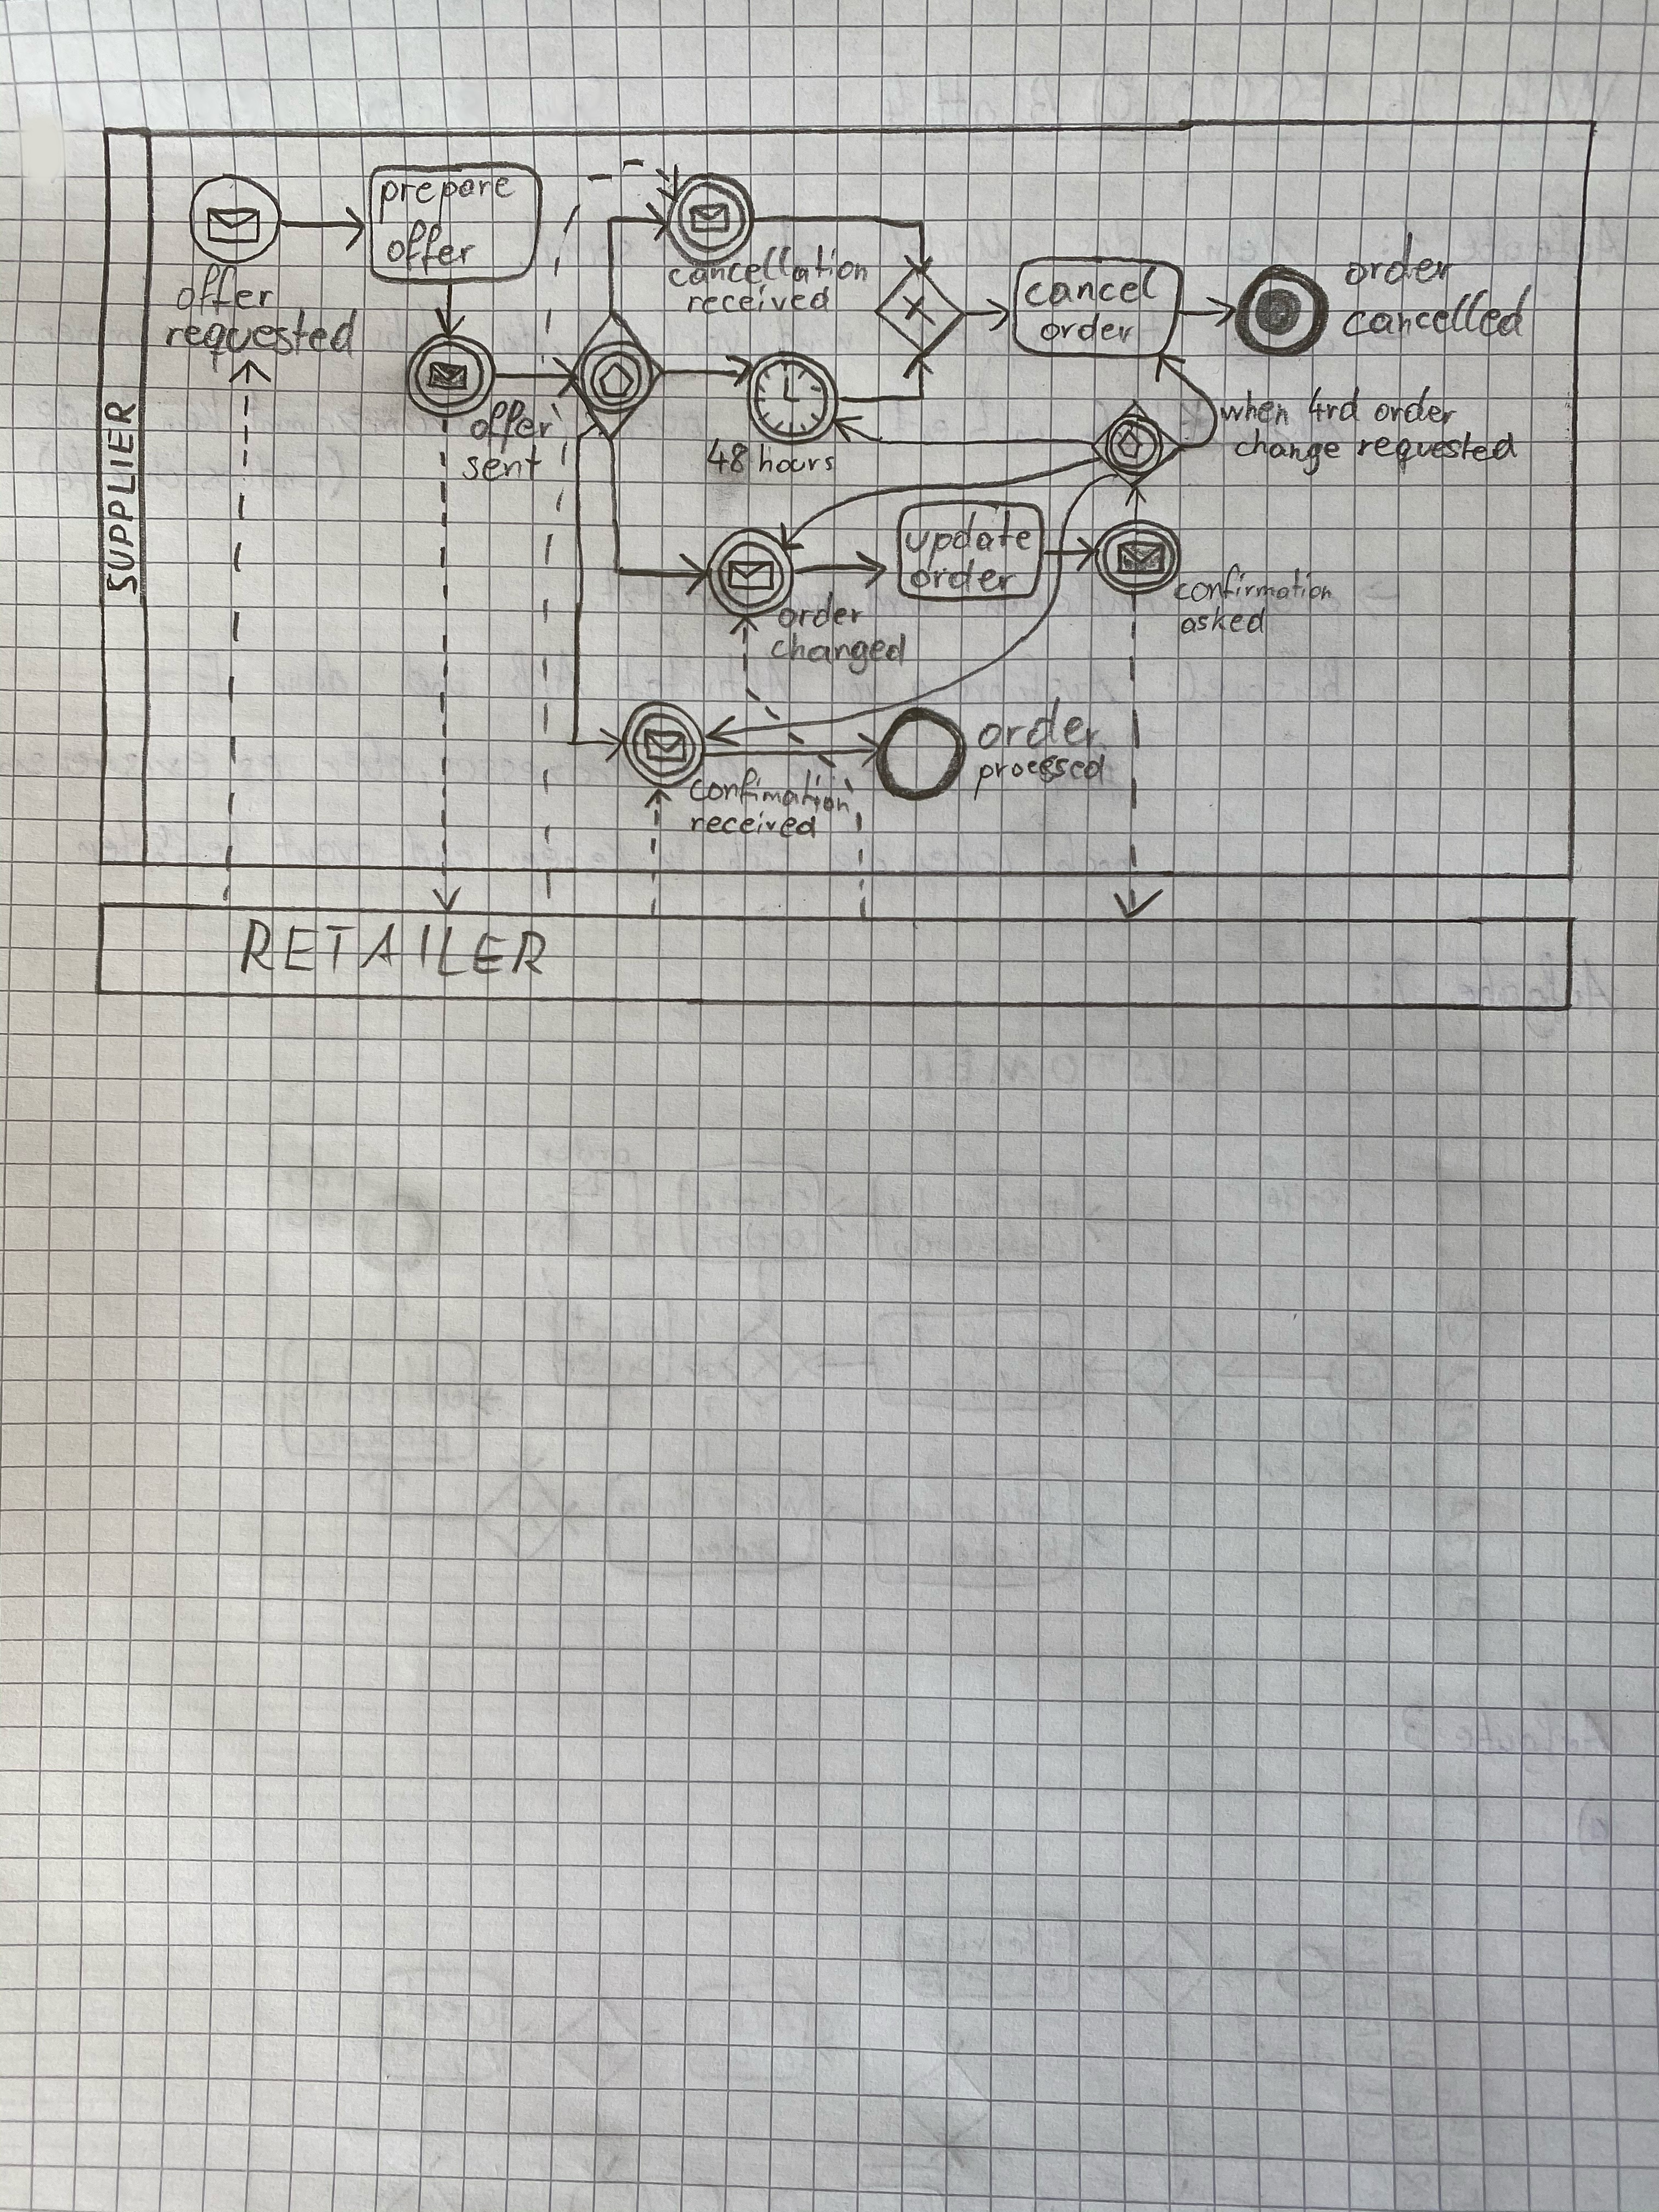48: (702, 442, 763, 477)
4rd: (1298, 383, 1373, 425)
RETAILER: (242, 911, 551, 986)
SUPPLIER: (99, 402, 139, 594)
asked: (1173, 611, 1269, 632)
cancel: (1026, 266, 1166, 307)
cancellation: (667, 253, 875, 293)
cancelled: (1337, 293, 1537, 336)
change: (1216, 430, 1359, 465)
changed: (765, 632, 910, 667)
confirmation: (688, 772, 850, 817), (1178, 573, 1330, 606)
hours: (749, 439, 840, 481)
offer: (167, 265, 286, 317), (380, 225, 472, 270), (469, 402, 547, 441)
order: (974, 700, 1103, 751), (899, 556, 1032, 604), (763, 596, 884, 634), (1344, 249, 1448, 293), (1028, 312, 1134, 348), (1370, 388, 1455, 423)
prepare: (378, 171, 516, 212)
processed: (965, 742, 1108, 787)
received: (685, 286, 835, 320), (669, 806, 824, 838)
requested: (166, 305, 361, 361), (1359, 427, 1513, 470)
sent: (458, 441, 537, 482)
update: (896, 514, 1033, 556)
when: (1213, 392, 1297, 428)
